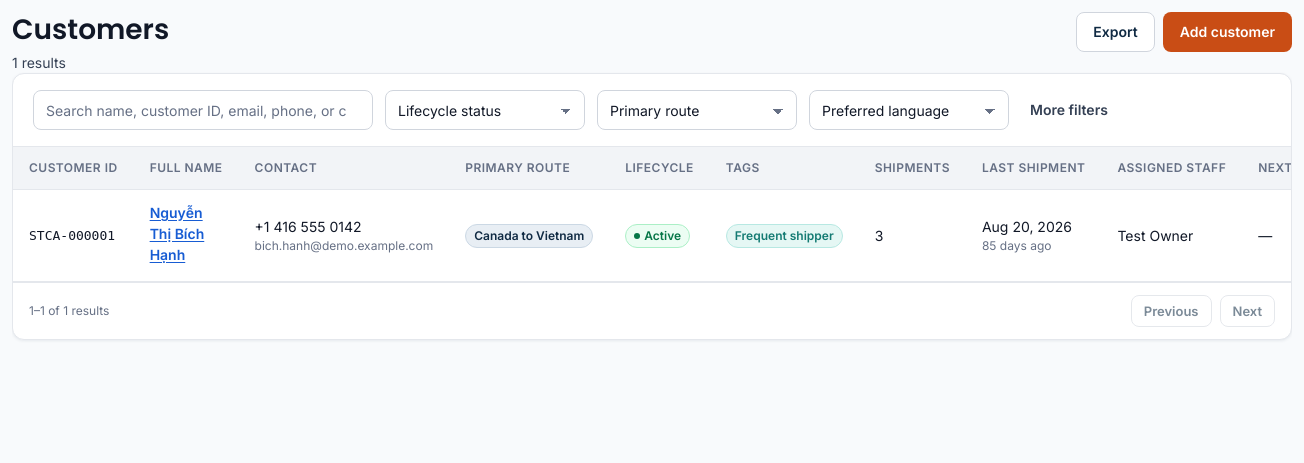
Test case: Tags on the customer list (UAT-OP-17, fix pack 2 item 3) › filters by tag from More filters and names the tag in the chip
The width and height of the screenshot is (1304, 463).
Expected: the table named "Customers" is shown, [13, 147, 1291, 282]
Click the button "More filters". click: (1069, 110)
box: [1021, 90, 1117, 130]
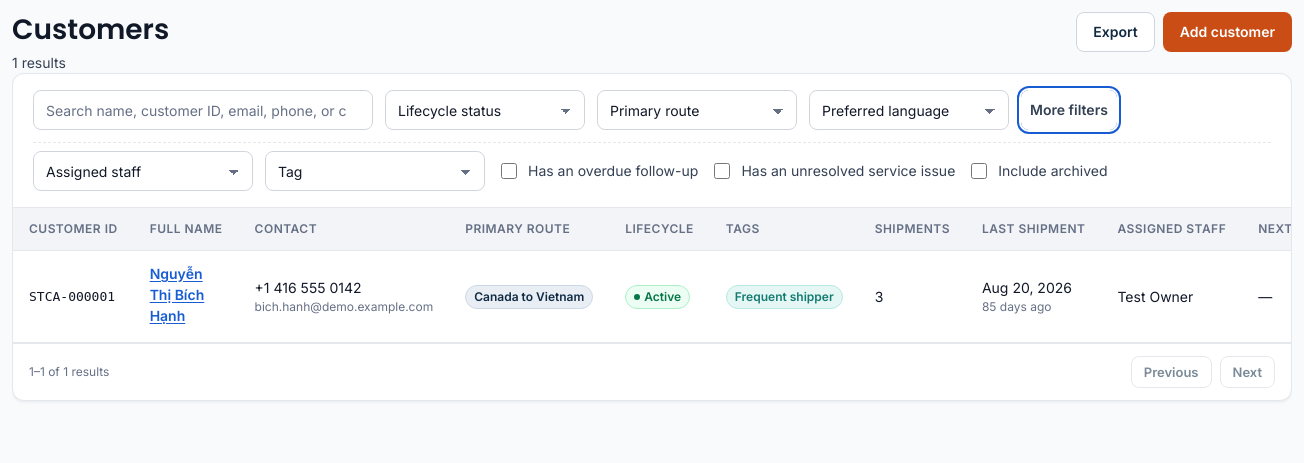
Select "Needs documents" in the dropdown named "Tag". click: (375, 171)
box: [265, 151, 485, 191]
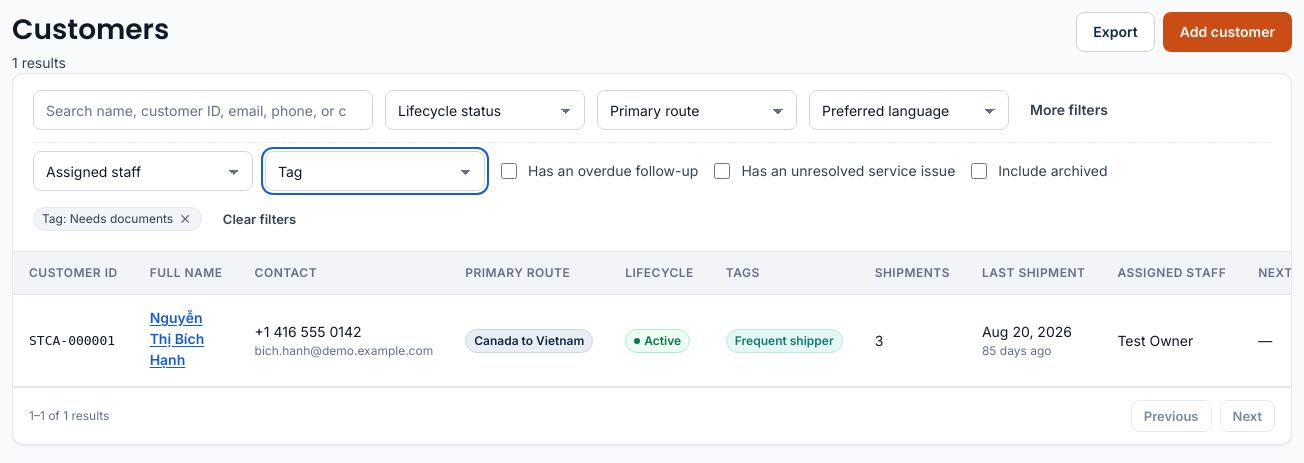
Expected: the text "Tag: Needs documents" is shown, [42, 211, 173, 226]
